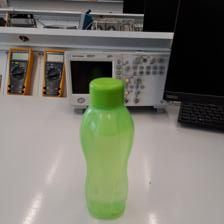bottle: (79, 77, 136, 221)
